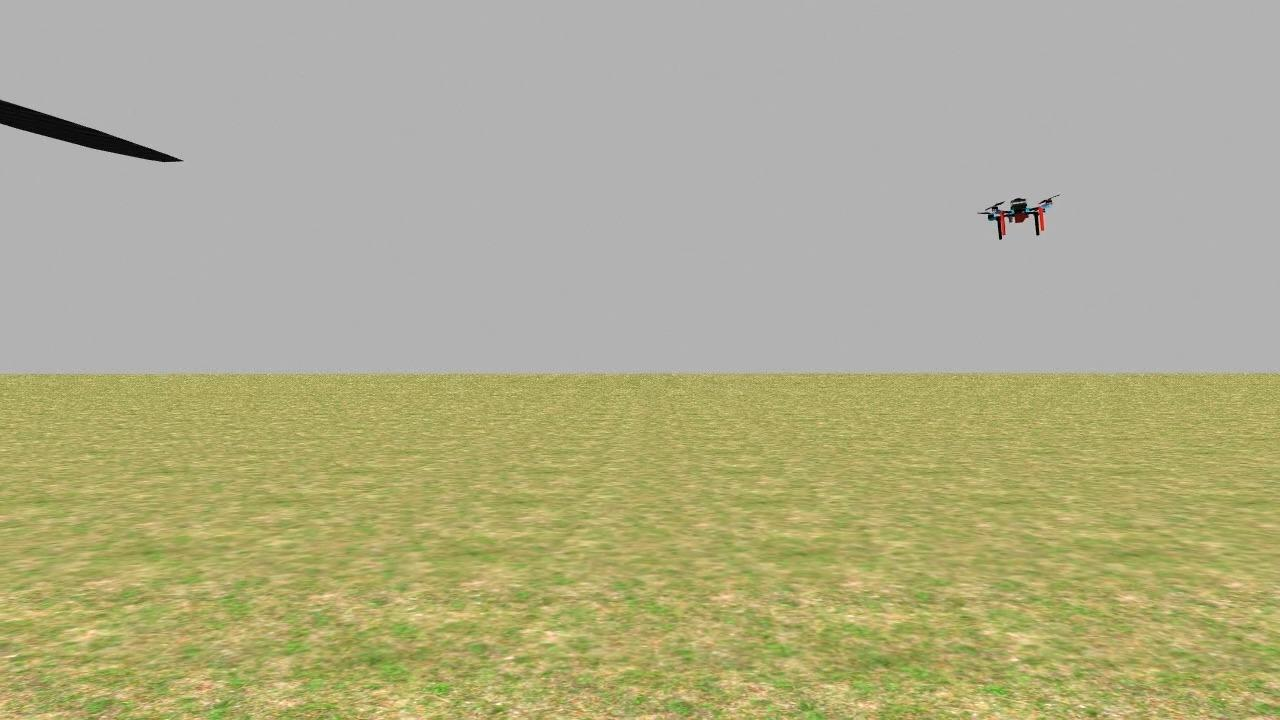UAV: (978, 194, 1061, 244)
